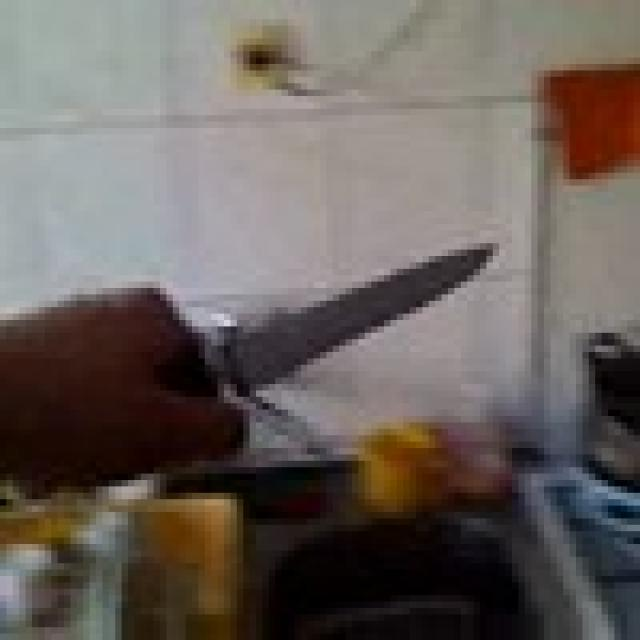Knife: (179, 224, 493, 429)
